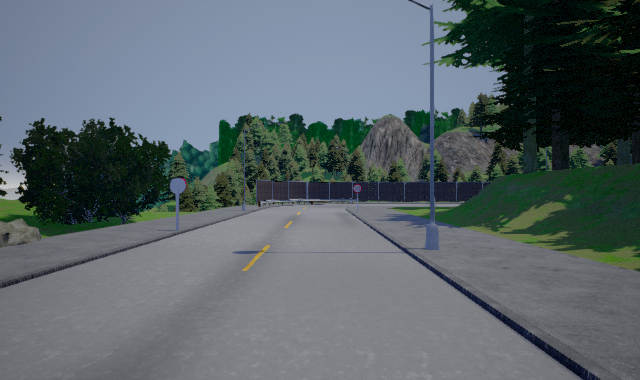traffic_sign: (353, 184, 362, 193)
